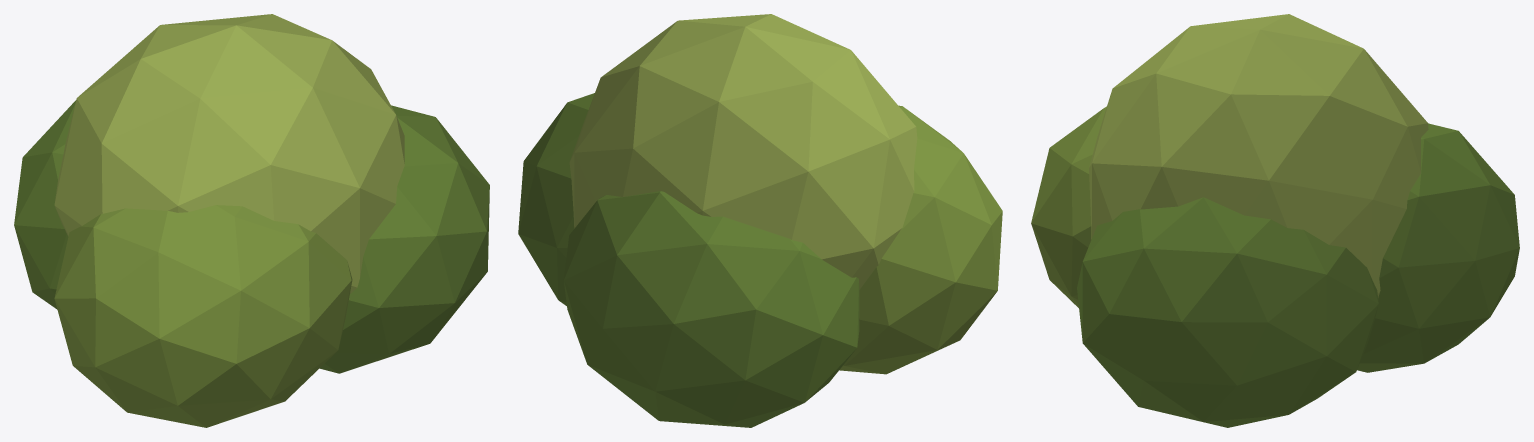
File: pile-lettuce-1.gltf
3 renders of one model, left to right at view 1: azimuth 30°, elevation 25°; view 2: azimuth 150°, elevation 25°; view 3: azimuth 270°, elevation 25°, orthographic.
Parts seen in each view (by area): view 1: pile-lettuce-1; view 2: pile-lettuce-1; view 3: pile-lettuce-1.
Part boxes in pixels (x1=…): pile-lettuce-1: x1=14, y1=14, x2=489, y2=427; pile-lettuce-1: x1=518, y1=14, x2=1002, y2=427; pile-lettuce-1: x1=1031, y1=14, x2=1519, y2=427.
Bounding box in the file's own units: 0.3067 × 0.2379 × 0.3098.
